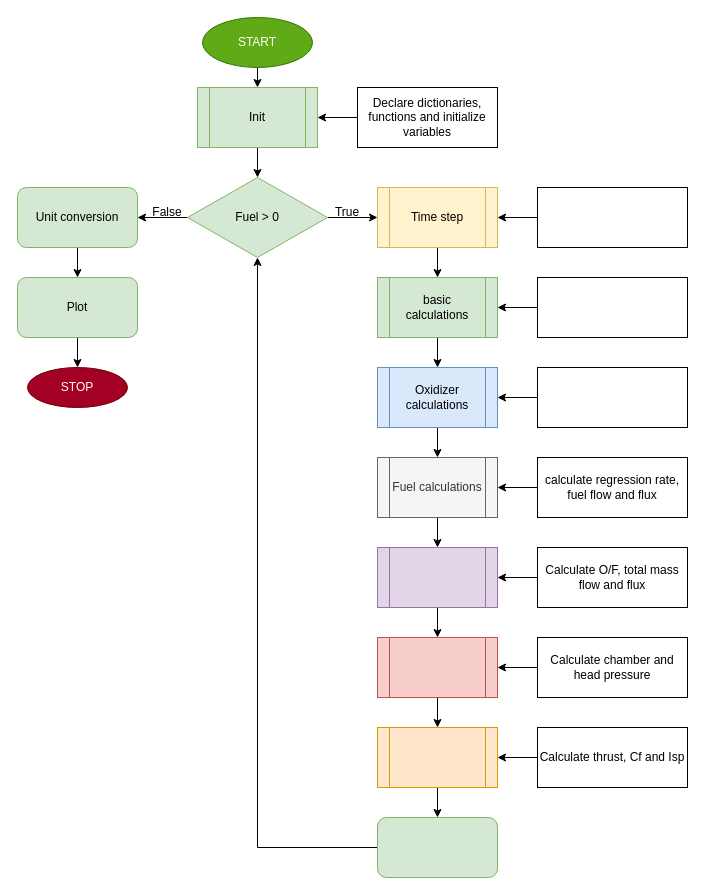
Image size: 705x895. Some labels were removed from this diagram. The centre of each missing label's shape, as x and y in pixels:
Calculate areas from diameters, and port-throat area ratio: point (612, 307)
Calculate oxidizer flow and flux: point (612, 397)
Increase port diameter, burn propellant: point (612, 217)
Performance calculations: point (437, 757)
Pressure calculations: point (437, 667)
Propellant calculations: point (437, 577)
Save all the variables for plotting: point (437, 847)
